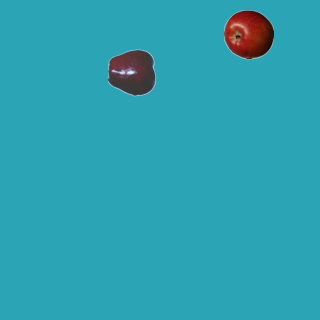Apple Braeburn: (223, 9, 273, 59)
Apple Red Delicious: (107, 47, 157, 97)
